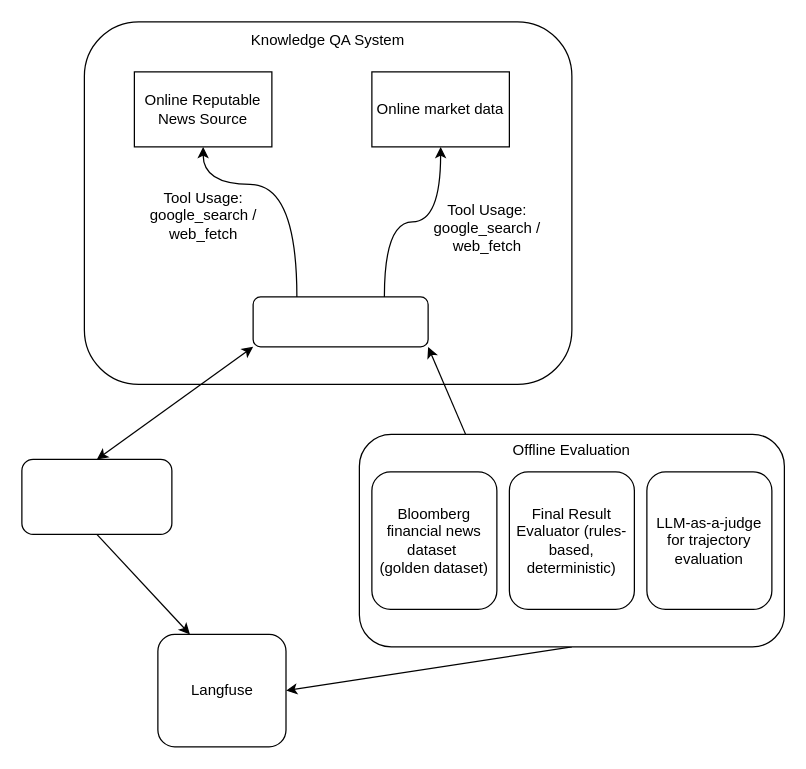
Some shapes in this 806 by 769 pixel diagram are drawn without their labels. Each missing label, with the centre of its shape:
Demo UI: (x=96, y=496)
Knowledge QA Agent: (x=340, y=321)
